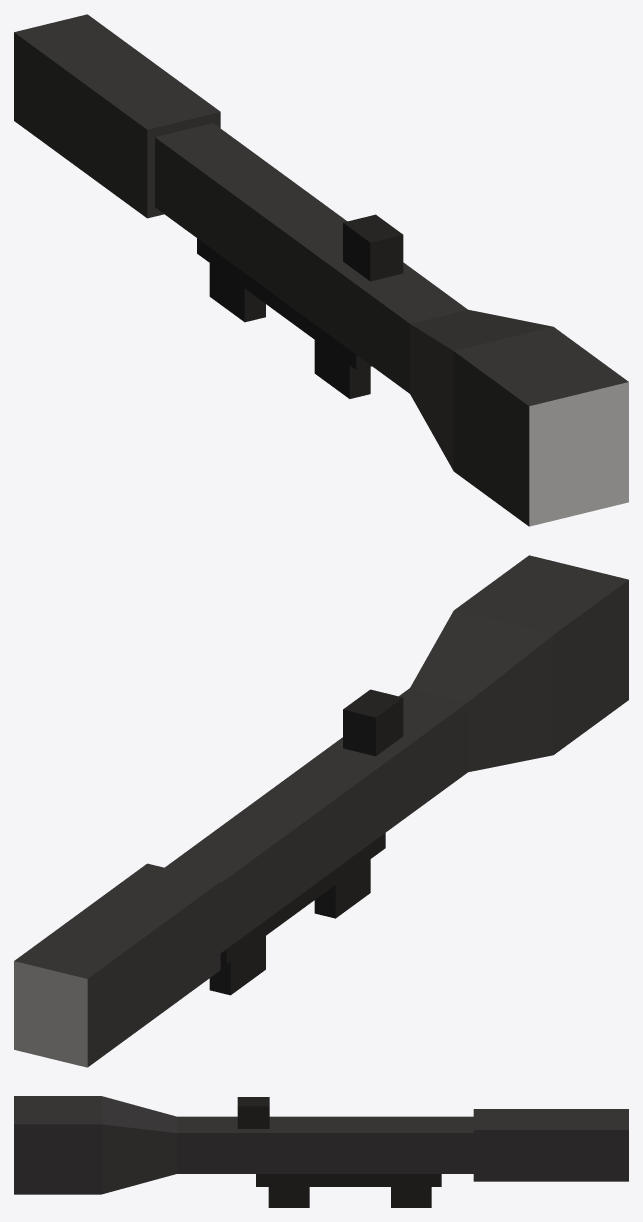
The model's file is Scope2.FBX.
3 views of the same model, one above another, from view 1: azimuth 30°, elevation 25°; view 2: azimuth 150°, elevation 25°; view 3: azimuth 270°, elevation 25° (orthographic). The views are drawn at different scales.
Visible parts, largest first — view 1: RifleScope2; view 2: RifleScope2; view 3: RifleScope2.
Part boxes in pixels (x1,y1,x2,y2): RifleScope2: (14, 14, 628, 526); RifleScope2: (14, 555, 628, 1067); RifleScope2: (14, 1096, 628, 1207).
Size of the model in its own units: 7.79 by 71.41 by 13.23.
